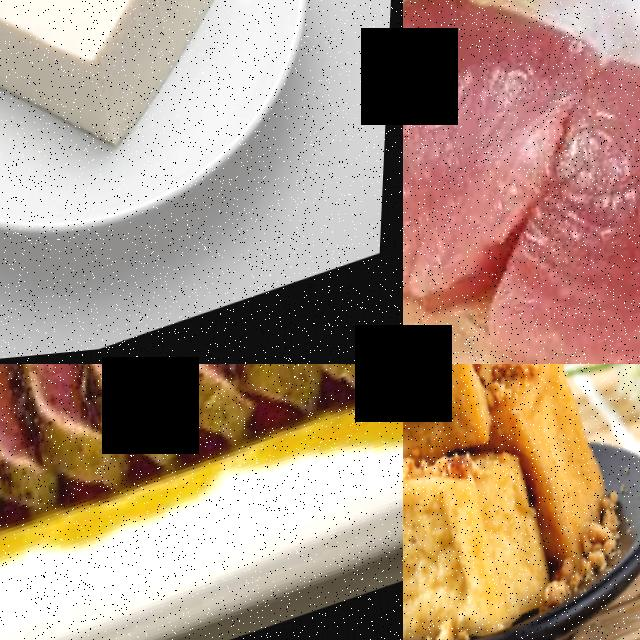tofu: (0, 0, 269, 214), (403, 440, 565, 640), (500, 364, 624, 571), (403, 364, 512, 498)
tuna: (403, 0, 629, 330), (434, 14, 640, 364)
